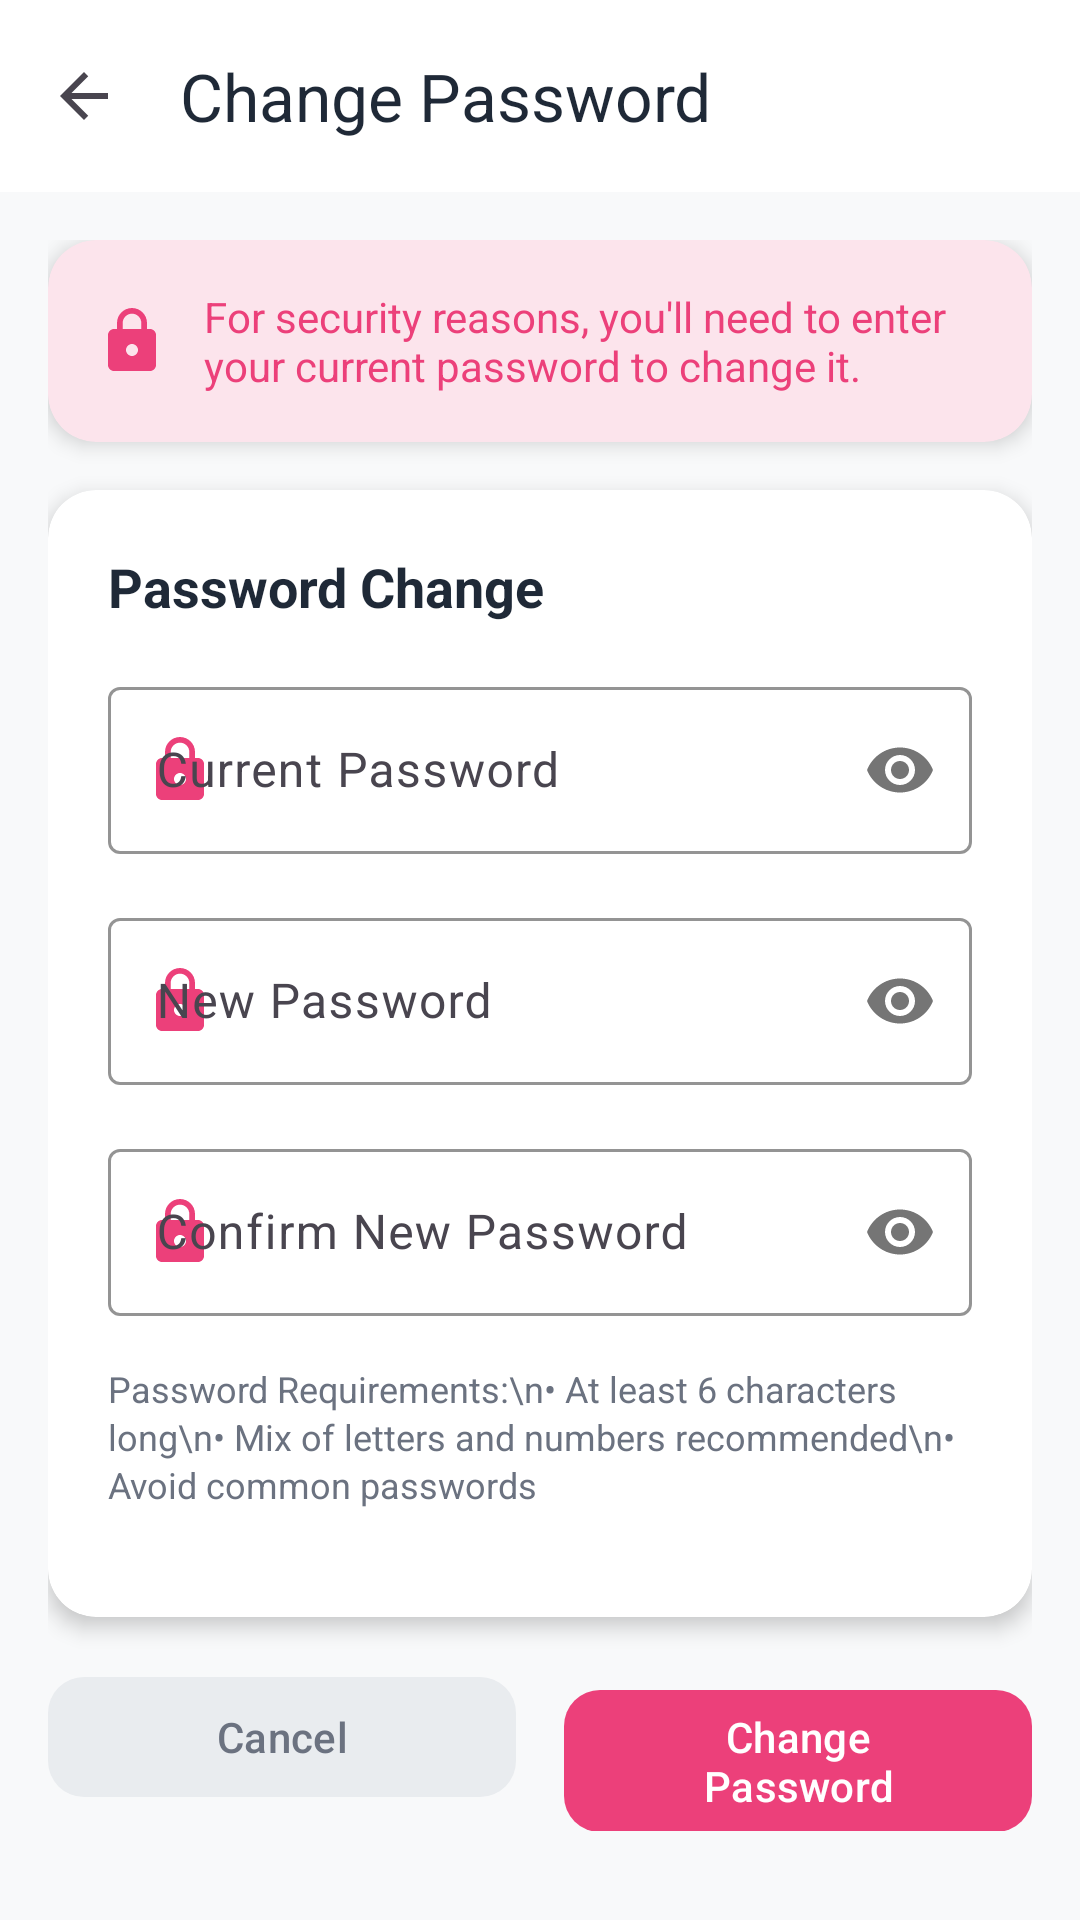

Locate icon controls on the screen. Image size 1080 x 1920, boxes as (x1, y1, x2, y2).
lock: (108, 308, 156, 371)
